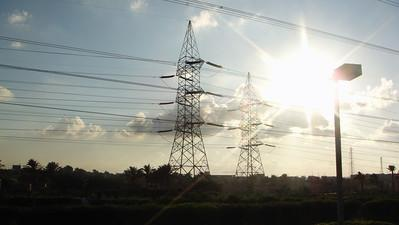power_tower: (161, 14, 213, 179), (230, 70, 276, 180)
